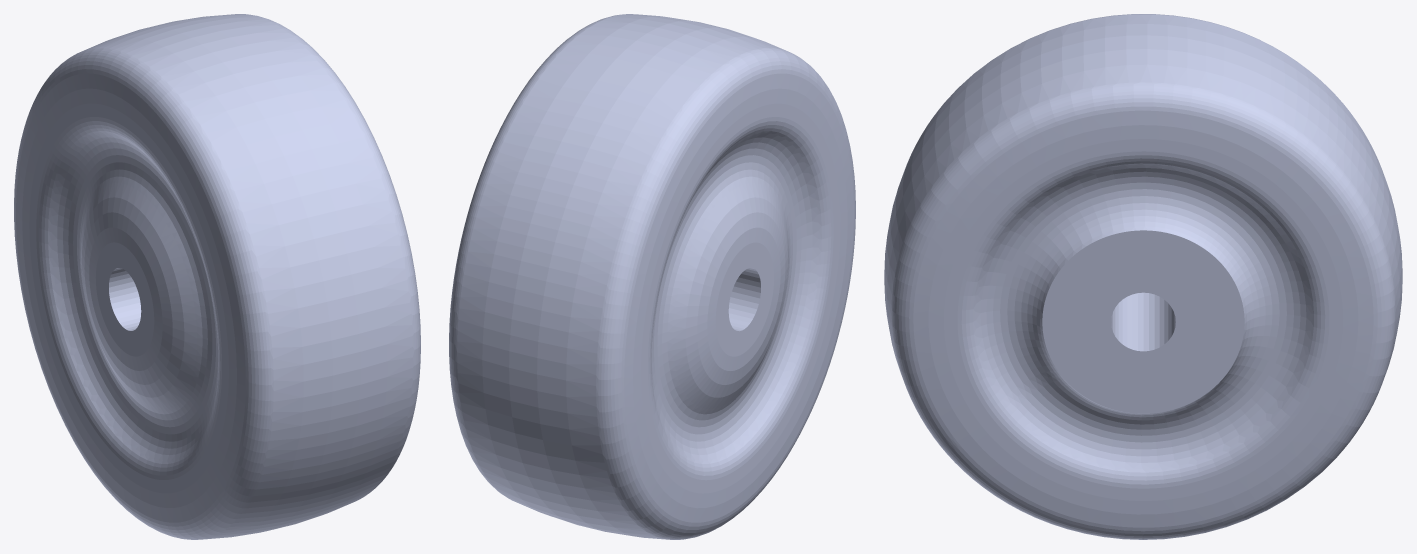
File: caster_wheel.dae
The picture shows the model from 3 angles, left to right: view 1: azimuth 30°, elevation 25°; view 2: azimuth 150°, elevation 25°; view 3: azimuth 270°, elevation 25°; orthographic projection.
Visible parts, largest first — view 1: ID2; view 2: ID2; view 3: ID2.
Part boxes in pixels (box(x1,y1,x2,y2)): ID2: box(14, 14, 420, 539); ID2: box(449, 14, 855, 539); ID2: box(884, 14, 1402, 539).
Size of the model in its own units: 0.017 by 0.0411 by 0.0411.
